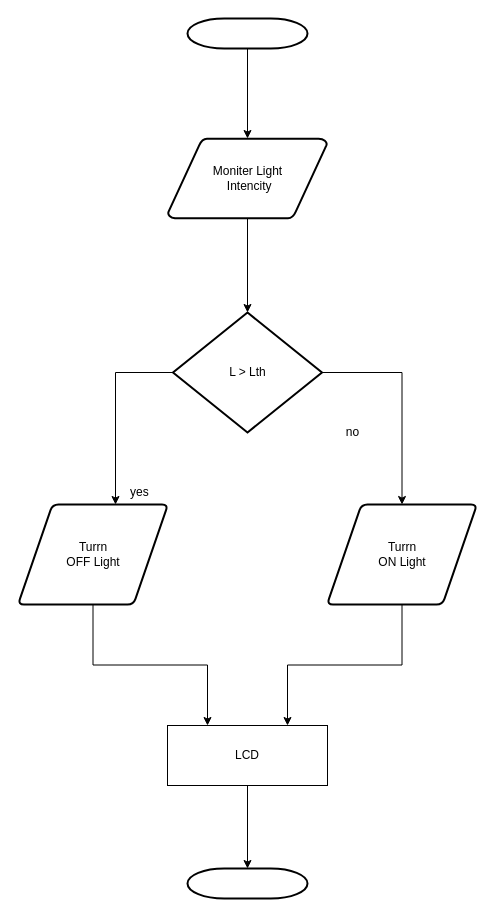
Image size: 495x916. Some labels were removed from this diagram. The centre of each missing label's shape, as x and y in pixels:
end: point 247,883
start: point 247,33
